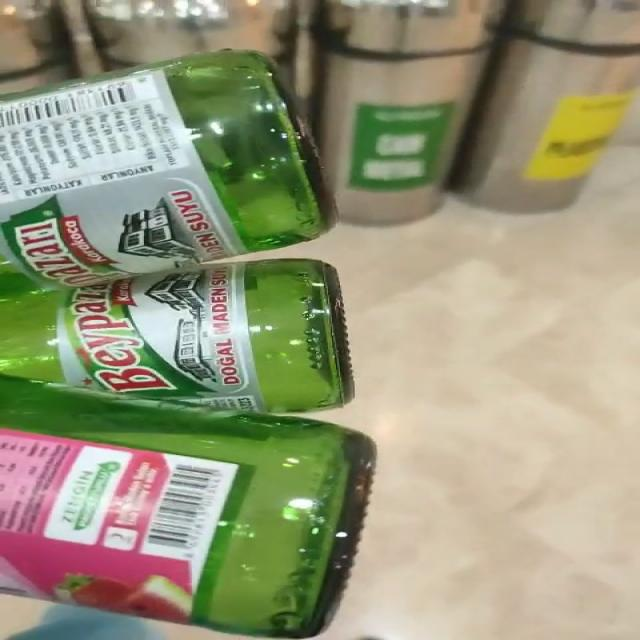glass: (1, 50, 375, 640)
